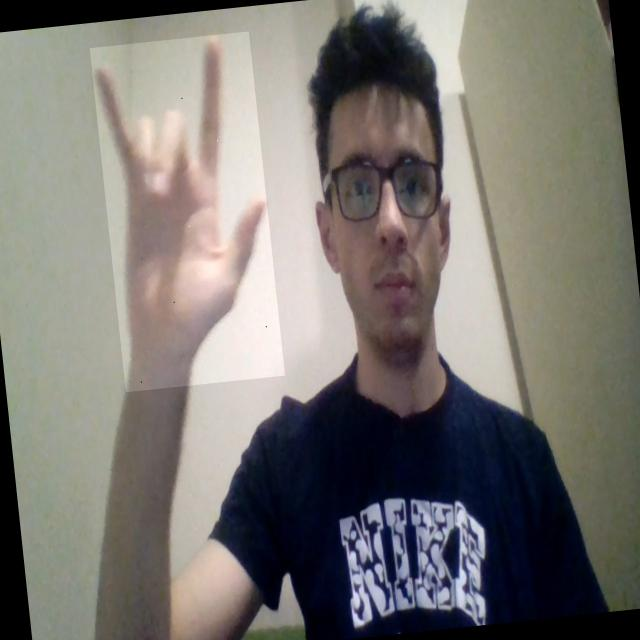iloveyou: (90, 31, 284, 392)
